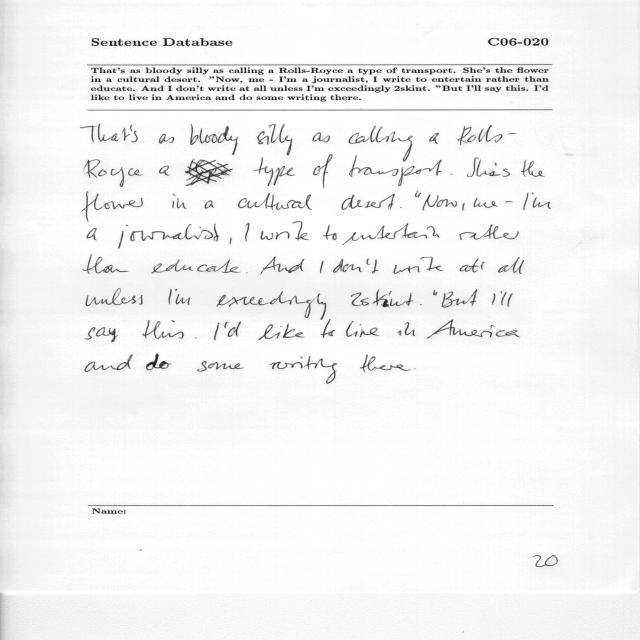word: (185, 157, 295, 186), (217, 291, 327, 320), (349, 155, 442, 186), (118, 224, 219, 249), (348, 126, 413, 162), (343, 223, 440, 245), (270, 356, 337, 384), (427, 319, 520, 339), (82, 192, 143, 222), (84, 159, 143, 187), (190, 124, 238, 155), (238, 193, 312, 210), (152, 260, 241, 274), (458, 125, 517, 145), (257, 124, 292, 156), (351, 289, 413, 307), (459, 224, 519, 240), (86, 289, 142, 306), (83, 255, 129, 275), (360, 355, 411, 373), (261, 222, 309, 241), (341, 194, 395, 210), (394, 257, 444, 274), (85, 355, 133, 372), (261, 257, 305, 275), (259, 323, 305, 340), (143, 320, 184, 339), (333, 258, 379, 274), (81, 125, 119, 143), (442, 289, 478, 308), (467, 157, 501, 177), (313, 155, 332, 189), (423, 194, 457, 211), (346, 321, 380, 337), (197, 361, 244, 372), (85, 327, 118, 342), (498, 257, 524, 274), (146, 354, 172, 370), (521, 160, 545, 177), (460, 259, 485, 273), (532, 192, 551, 209), (122, 125, 138, 143), (320, 320, 335, 339), (473, 197, 498, 208), (224, 321, 241, 337), (397, 322, 415, 336), (175, 289, 190, 305), (173, 194, 187, 209), (323, 225, 337, 240), (501, 291, 513, 307), (312, 133, 330, 143), (159, 134, 174, 144), (87, 228, 97, 240), (429, 133, 439, 144), (159, 166, 170, 176), (524, 193, 529, 210), (214, 323, 219, 340), (205, 201, 215, 209), (245, 223, 249, 241), (503, 169, 510, 177), (169, 289, 172, 304), (415, 191, 421, 198), (320, 261, 323, 273), (492, 294, 495, 305), (462, 203, 465, 211), (433, 290, 437, 296), (506, 201, 513, 203), (230, 238, 232, 244), (450, 174, 453, 175), (400, 207, 402, 208), (246, 273, 248, 274), (420, 304, 422, 305), (195, 338, 197, 339), (414, 368, 416, 369)
